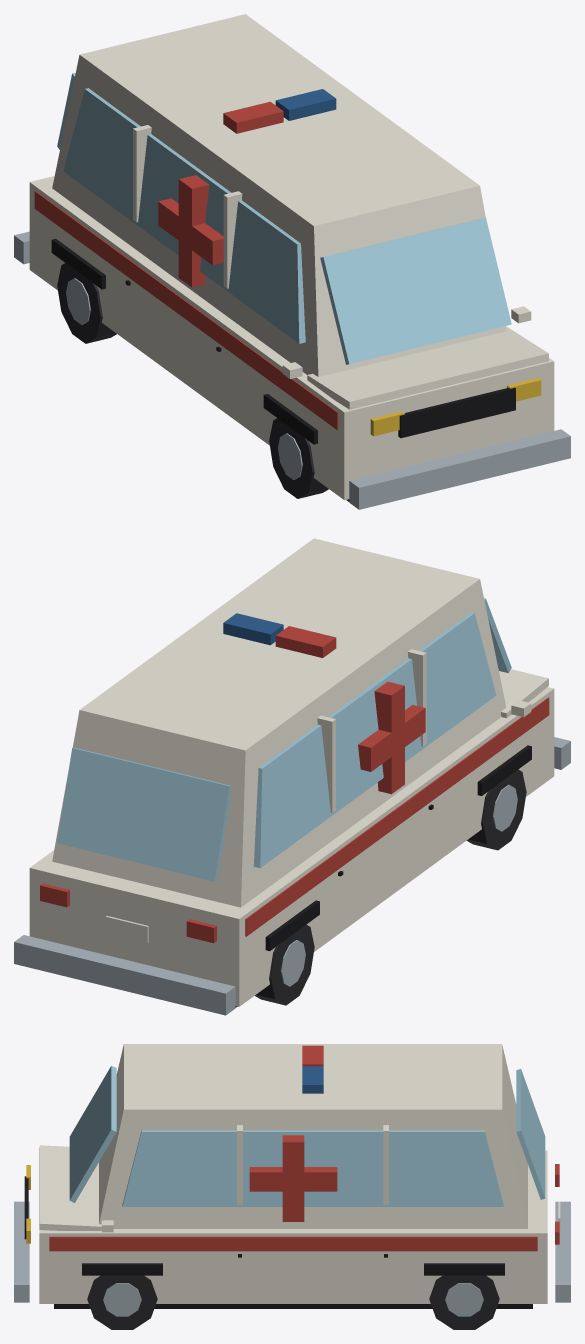
Rendered from GV_Ambulance_White_01.glb.
3 views of the same model, one above another, from view 1: azimuth 30°, elevation 25°; view 2: azimuth 150°, elevation 25°; view 3: azimuth 270°, elevation 25° (orthographic). The views are drawn at different scales.
Visible parts, largest first — view 1: GV_Ambulance_White_01; view 2: GV_Ambulance_White_01; view 3: GV_Ambulance_White_01.
Boxes of the visible parts, left/top/right/bottom form: GV_Ambulance_White_01: left=14, top=14, right=570, bottom=509; GV_Ambulance_White_01: left=14, top=538, right=570, bottom=1015; GV_Ambulance_White_01: left=14, top=1044, right=570, bottom=1329.
Bounding box in the file's own units: 2.3 × 2.51 × 5.7.
Materials: 1 (1 with a texture image).
